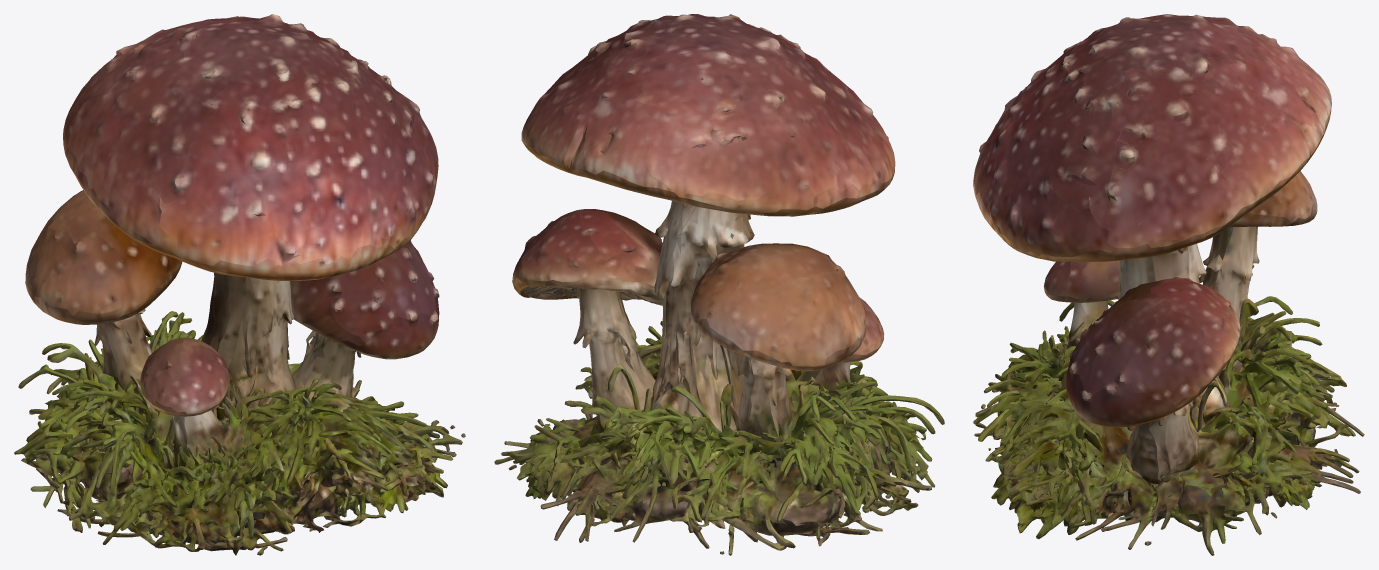
Rendered from Mushrooms_01.fbx.
The picture shows the model from 3 angles, left to right: view 1: azimuth 30°, elevation 25°; view 2: azimuth 150°, elevation 25°; view 3: azimuth 270°, elevation 25°; orthographic projection. The views are drawn at different scales.
Visible parts, largest first — view 1: geometry_0; view 2: geometry_0; view 3: geometry_0.
Part boxes in pixels (x1,y1,x2,y2): geometry_0: [14, 14, 465, 555]; geometry_0: [494, 14, 944, 555]; geometry_0: [973, 14, 1364, 555].
Bounding box in the file's own units: 25.12 × 28 × 22.56.
